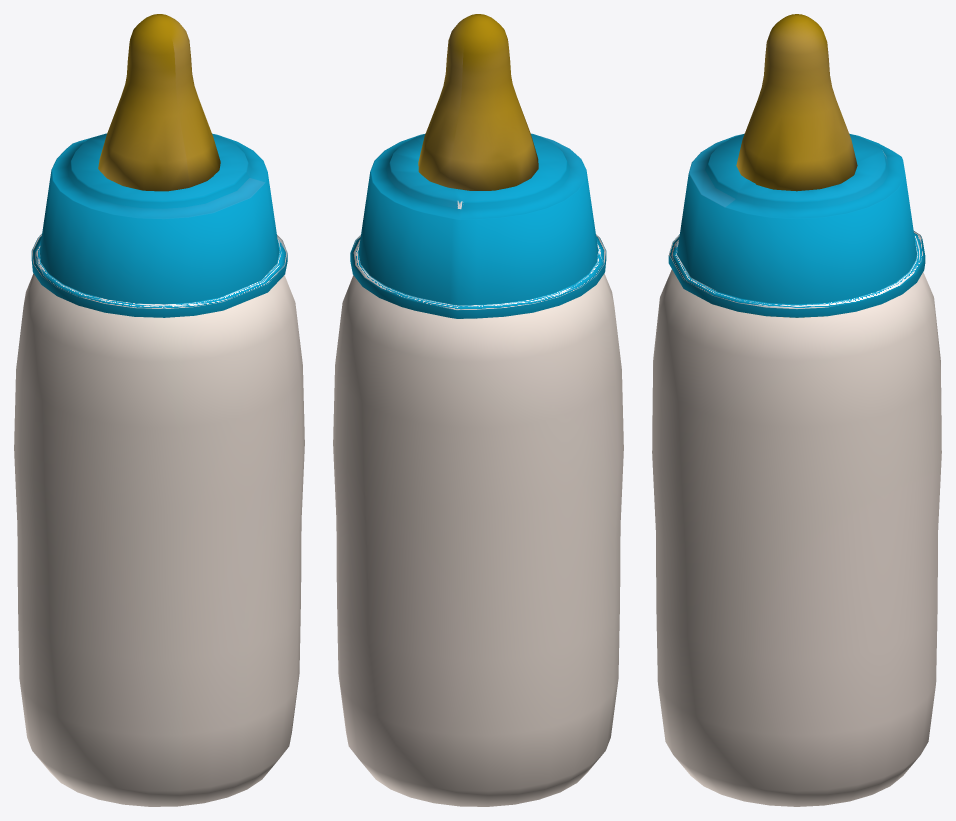
The model's file is Feeder 1.fbx.
3 views of the same model, side by side, from view 1: azimuth 30°, elevation 25°; view 2: azimuth 150°, elevation 25°; view 3: azimuth 270°, elevation 25° (orthographic).
Visible parts, largest first — view 1: Cylinder001; view 2: Cylinder001; view 3: Cylinder001.
Part boxes in pixels (x1,y1,x2,y2): Cylinder001: (14,14,304,806); Cylinder001: (333,14,623,806); Cylinder001: (652,14,941,806).
Size of the model in its own units: 37.75 by 107 by 37.61.
